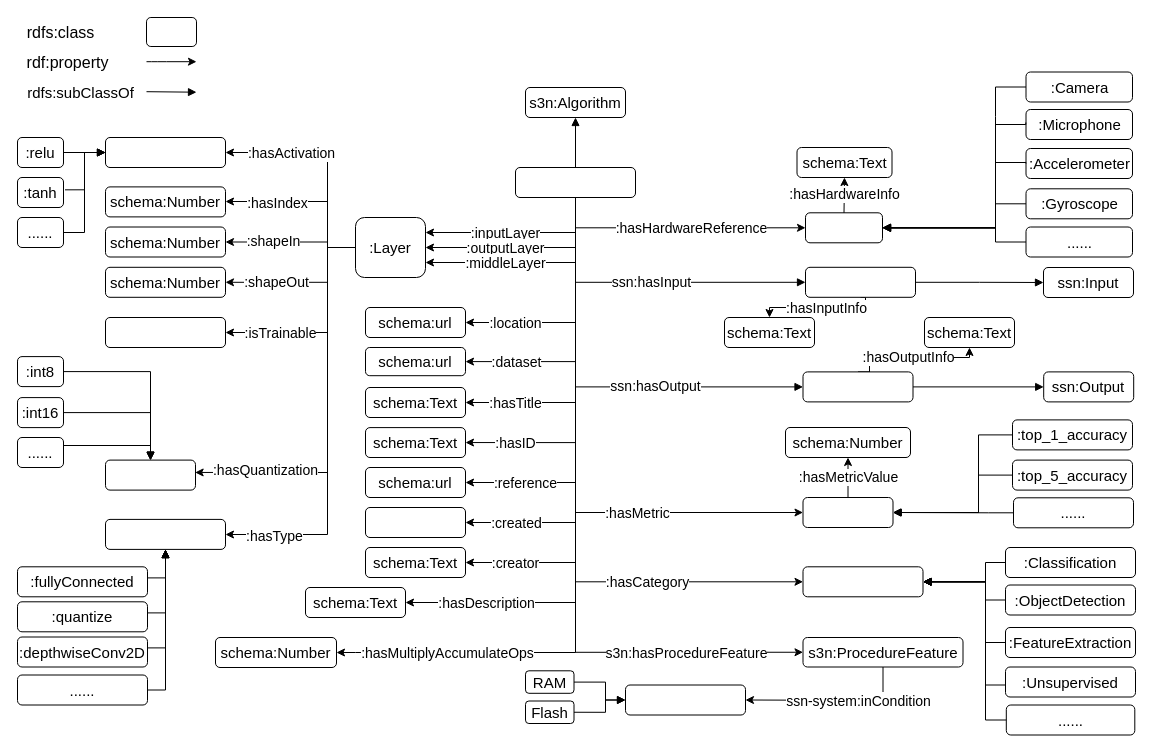
This 1174x753 diagram has some shape labels left out. The box of each missing label's shape, as (x1, y1, x2, y2) in pixels:
:Activation: (104, 136, 226, 168)
:Category: (802, 566, 923, 597)
:Hardware: (804, 212, 882, 243)
:LayerType: (104, 518, 226, 549)
:Metric: (802, 496, 893, 528)
:NetworkInput: (804, 266, 916, 297)
:NetworkOutput: (802, 371, 913, 402)
:NeuralNetwork: (514, 166, 636, 198)
:Quantization: (104, 459, 196, 490)
s3n:Memory: (624, 684, 746, 715)
schema:Boolean: (104, 316, 226, 348)
schema:Date: (364, 506, 466, 538)
